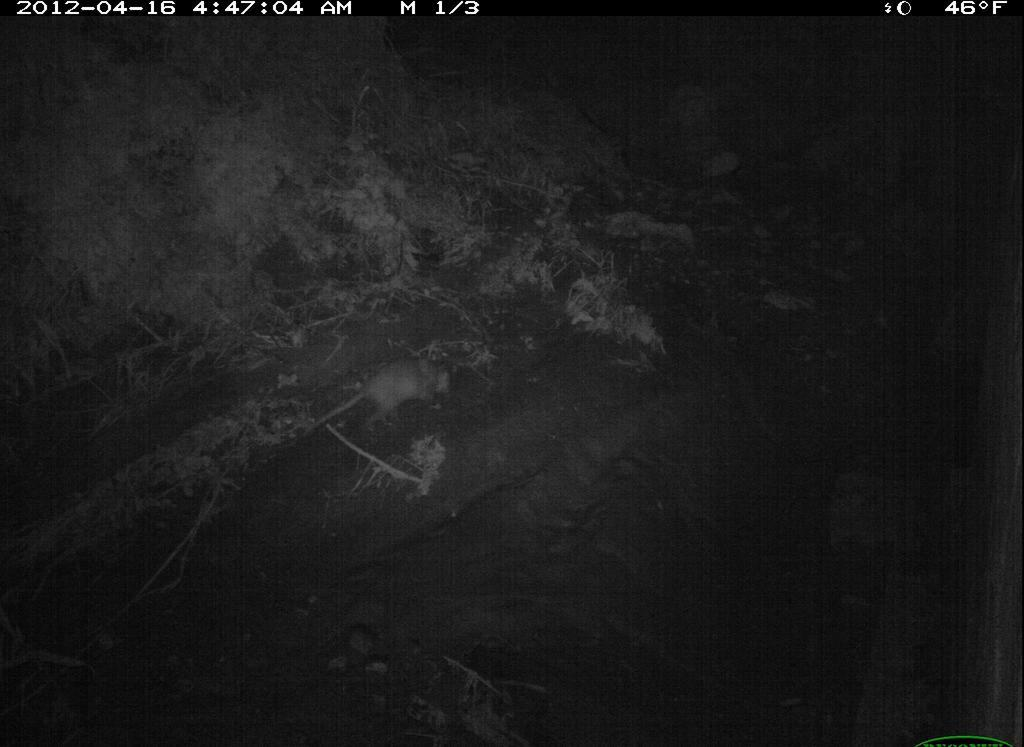opossum: (310, 350, 491, 450)
